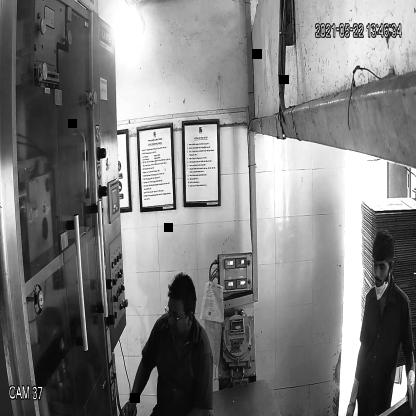goggles: (162, 305, 193, 325)
no_goggles: (370, 255, 392, 274)
